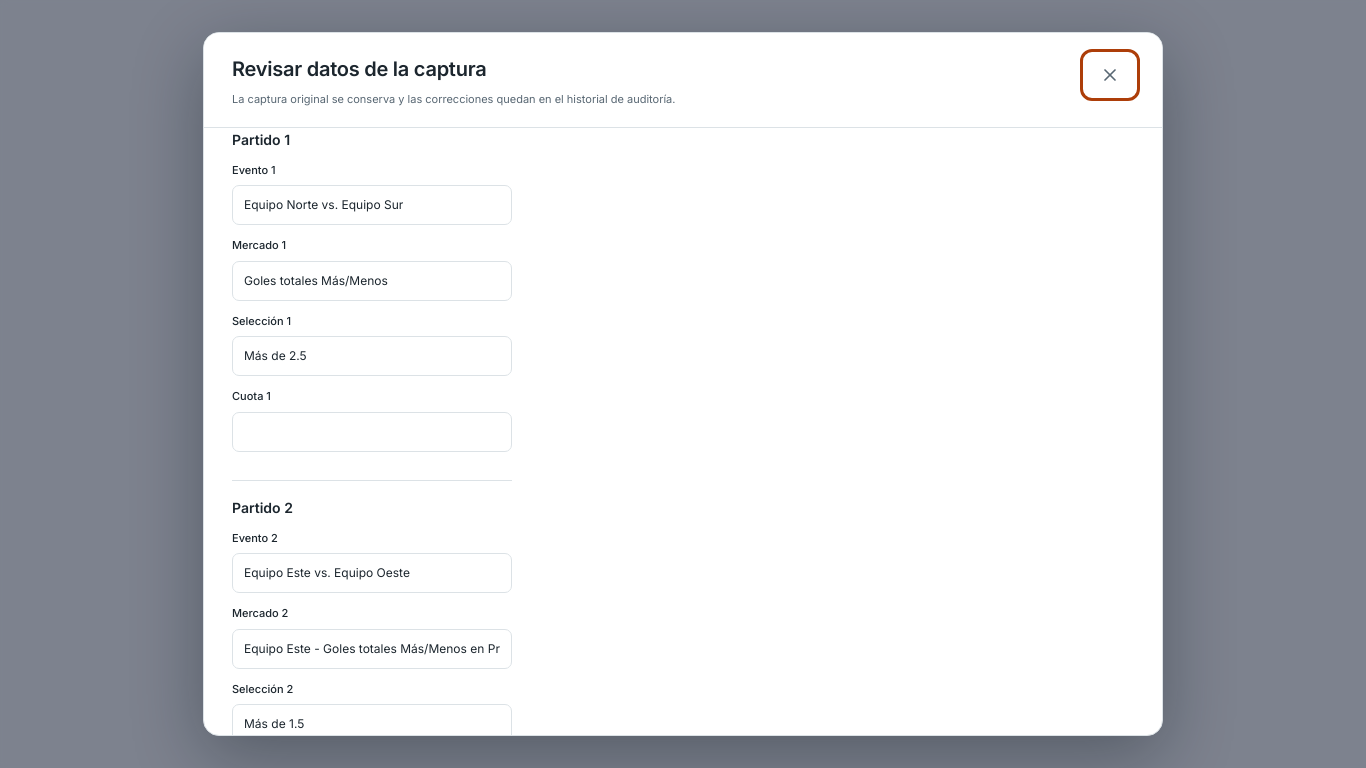
it: returning to edit revokes consent for the previous preview
The width and height of the screenshot is (1366, 768).
(page scrolled)
Type "1.33" into the number field labelled "Cuota 1". click: (372, 432)
box: [232,412,512,452]
(page scrolled)
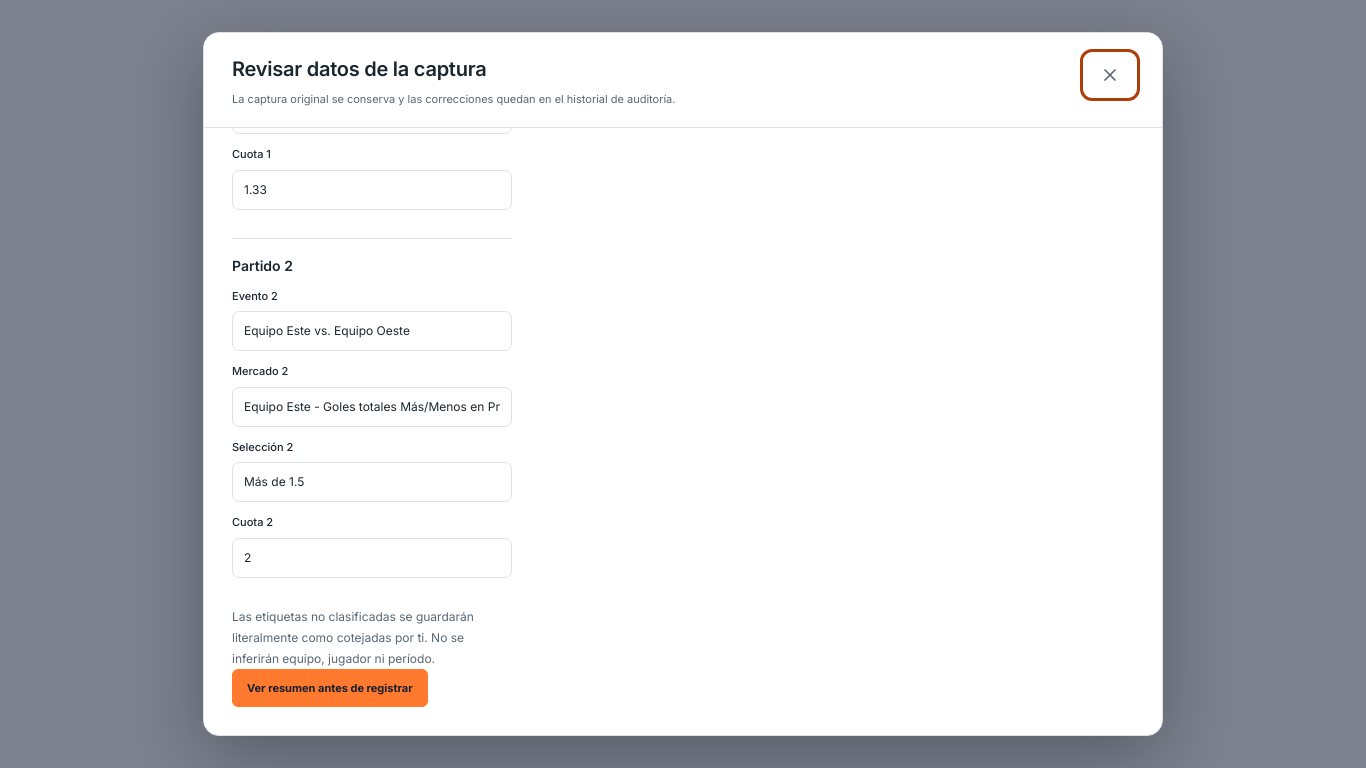
Click the button "Ver resumen antes de registrar". click: (330, 688)
box: [232,669,428,707]
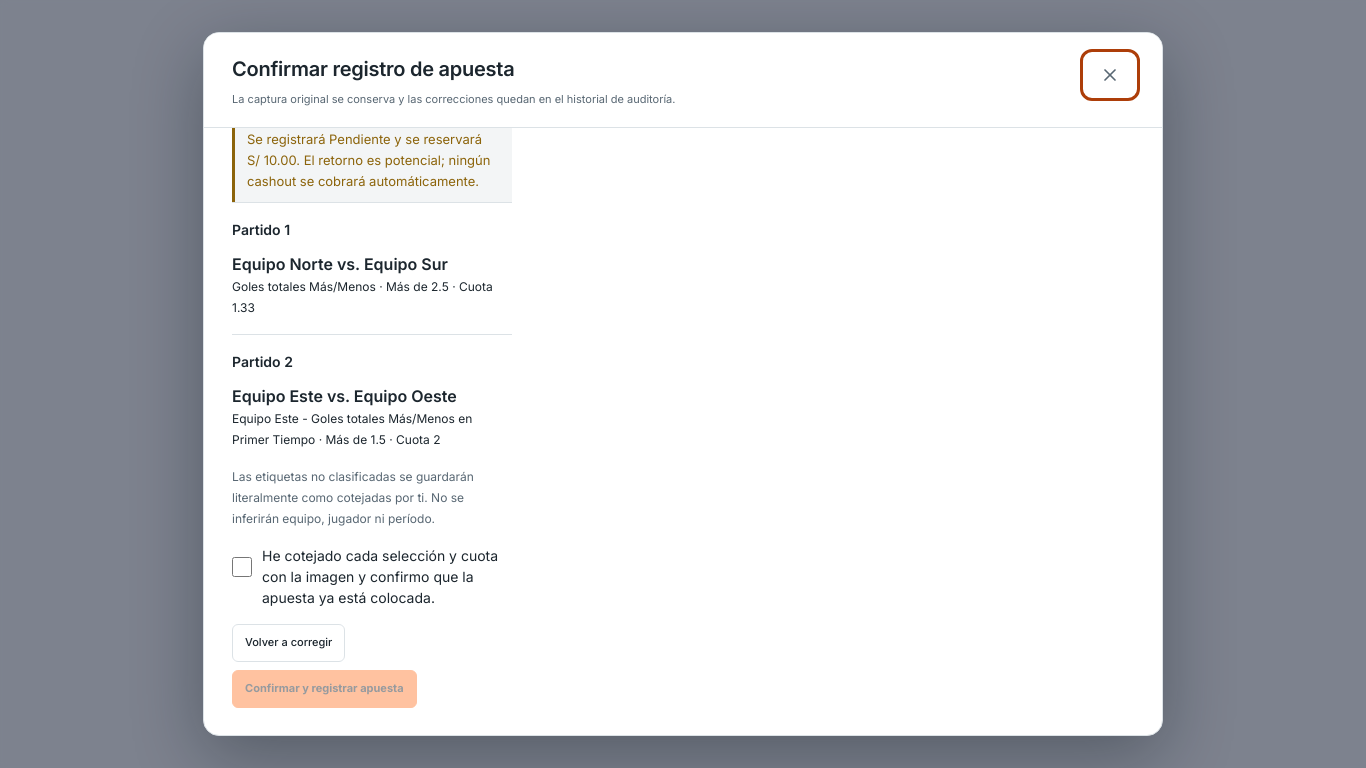
Click the checkbox. click: (242, 567)
box: [232,547,252,587]
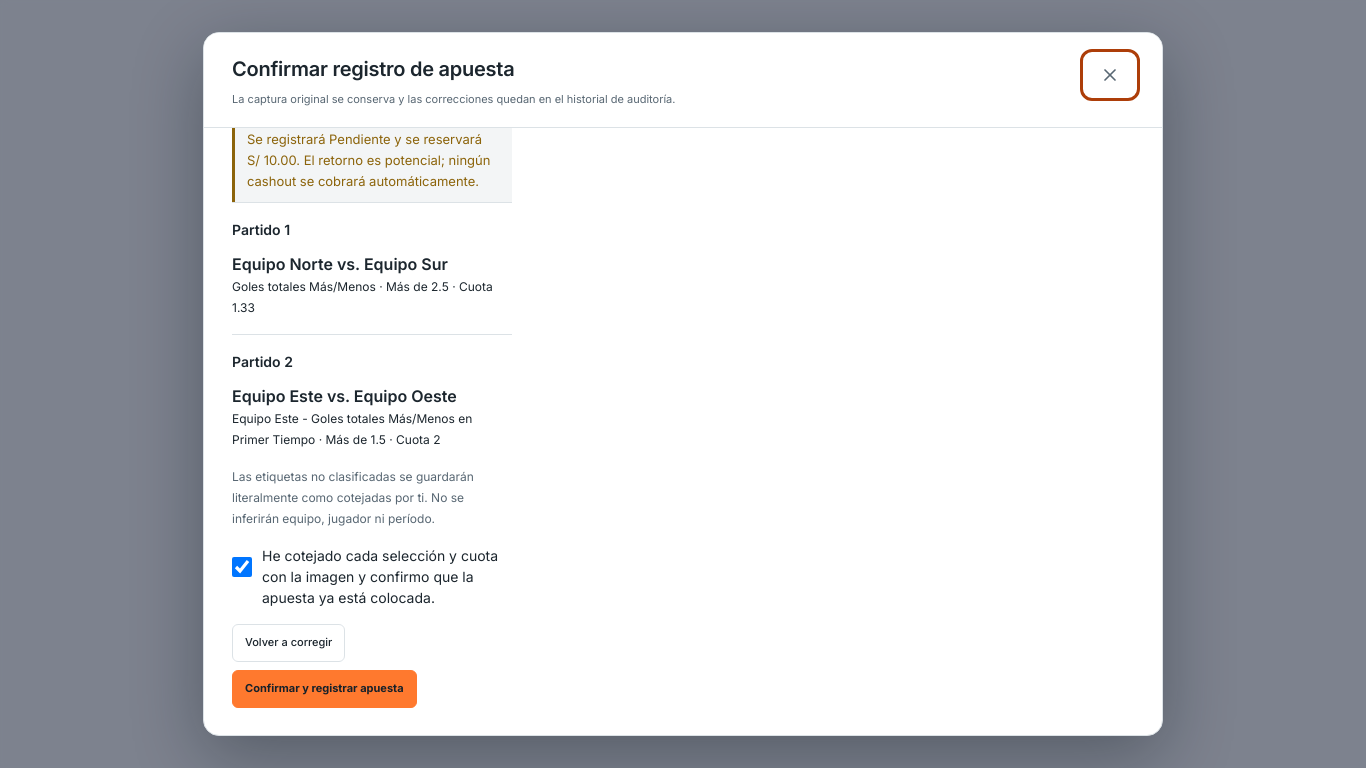
Click the button "Volver a corregir". click: (289, 643)
box: [232,624,345,662]
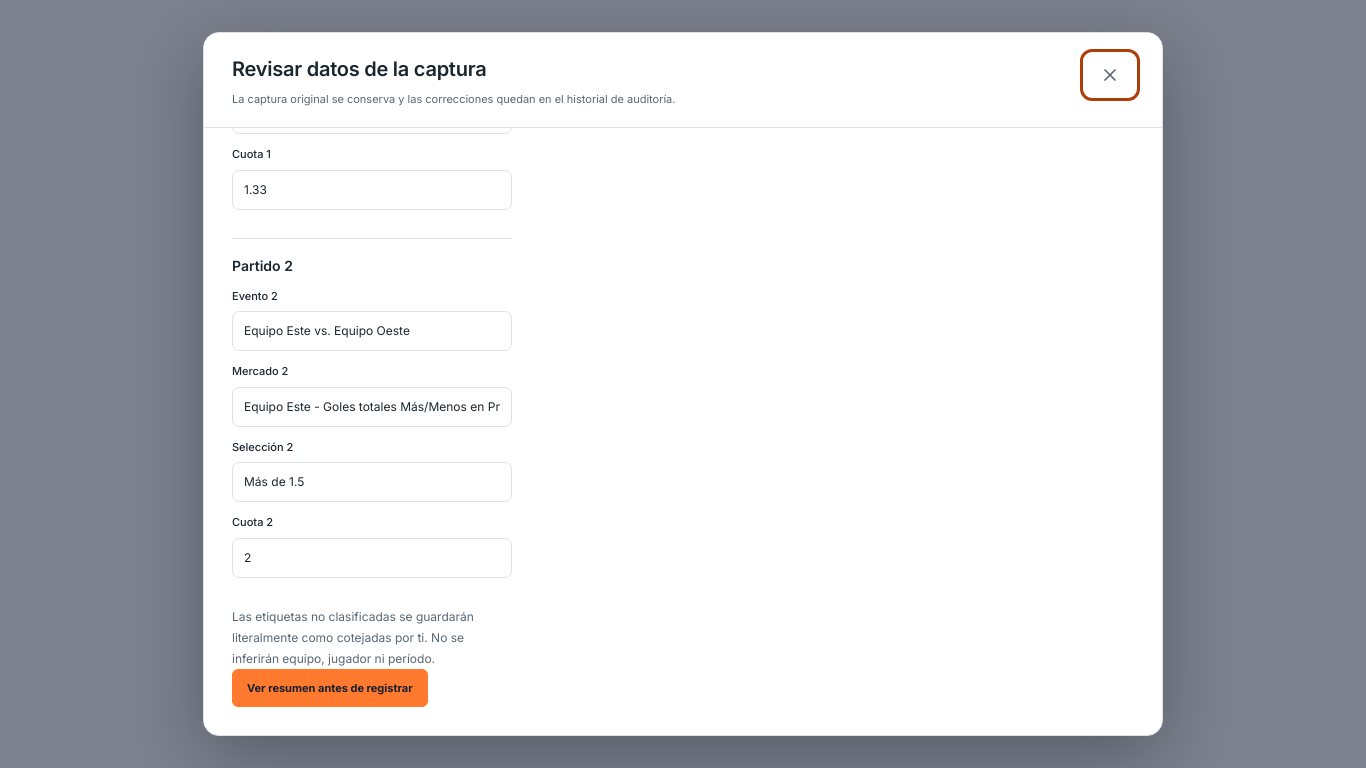
Click the button "Ver resumen antes de registrar". click: (330, 688)
box: [232,669,428,707]
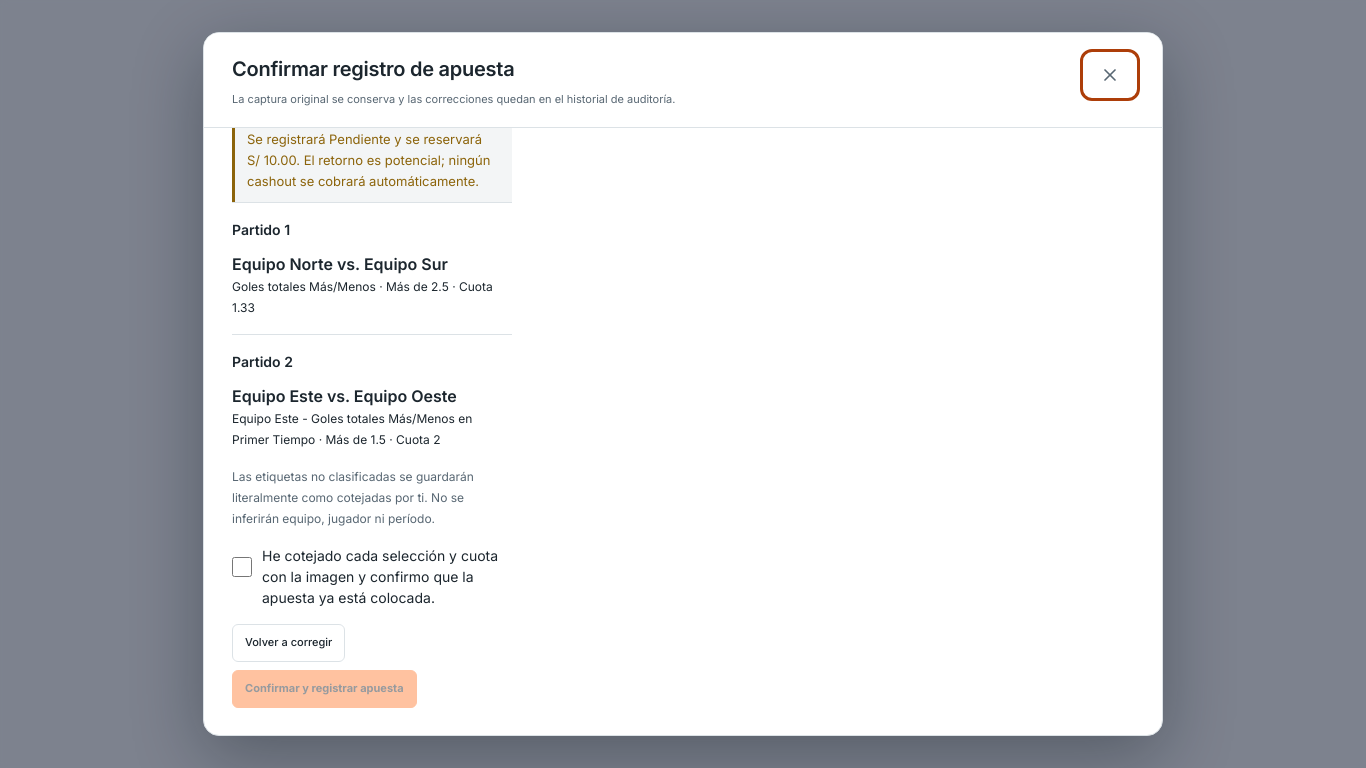
Expected: the checkbox is not checked, [232,547,252,587]
